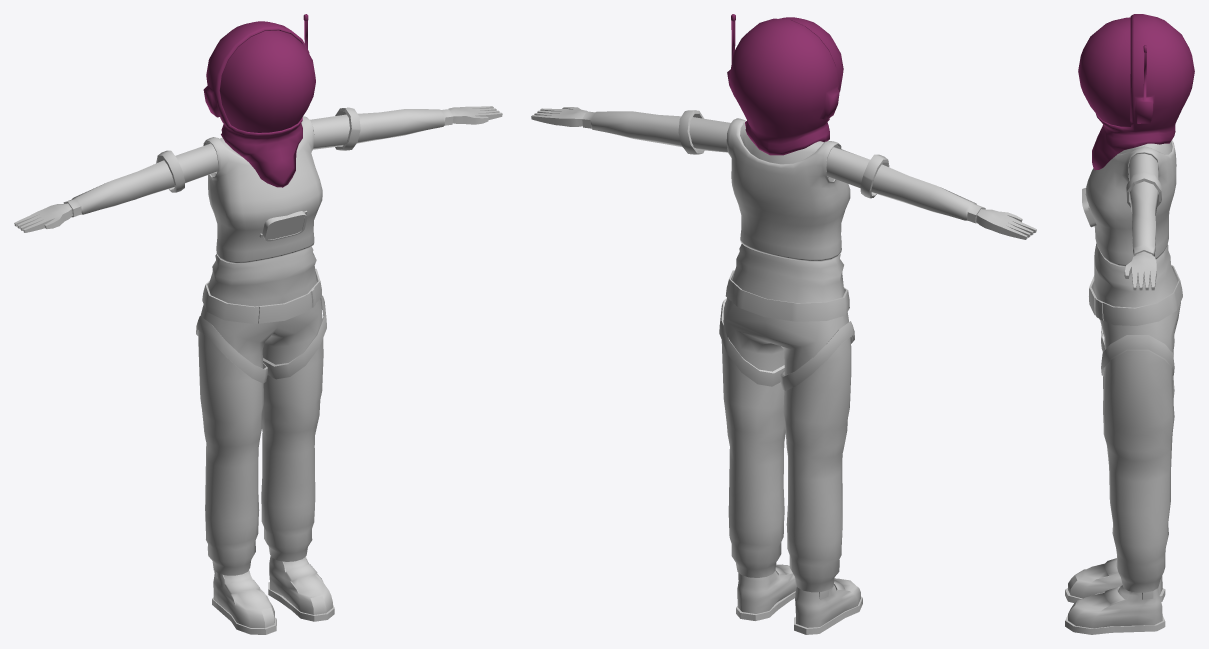
The model's file is astronaut_girl_low.fbx.
3 views of the same model, side by side, from view 1: azimuth 30°, elevation 25°; view 2: azimuth 150°, elevation 25°; view 3: azimuth 270°, elevation 25° (orthographic). The views are drawn at different scales.
Visible parts, largest first — view 1: body_low, vest_low, helmet_screen_low, helmet_low, belt_low, leg_strap_low, leg-strap_low, vest_box_low; view 2: body_low, helmet_low, vest_low, belt_low, leg_strap_low, leg-strap_low, helmet_screen_low; view 3: body_low, helmet_low, vest_low, helmet_screen_low, belt_low, leg-strap_low, arm_strap_low, vest_box_low.
Boxes of the visible parts, x1,y1,x2,y2 form: body_low: (14,106,502,634); vest_low: (203,116,322,263); helmet_screen_low: (220,30,315,132); helmet_low: (203,14,309,187); belt_low: (202,268,321,323); leg_strap_low: (196,316,267,383); leg-strap_low: (263,295,326,379); vest_box_low: (259,210,307,241); body_low: (531,107,1036,634); helmet_low: (727,14,839,155); vest_low: (726,118,850,261); belt_low: (725,270,849,321); leg_strap_low: (780,321,854,390); leg-strap_low: (719,298,784,386); helmet_screen_low: (779,17,843,91); body_low: (1065,142,1180,634); helmet_low: (1092,14,1194,170); vest_low: (1085,140,1176,266); helmet_screen_low: (1078,17,1130,126); belt_low: (1089,264,1182,325); leg-strap_low: (1101,335,1174,376); arm_strap_low: (1126,171,1161,207); vest_box_low: (1082,188,1096,227).
Size of the model in its own units: 53.22 by 61.21 by 12.15.
